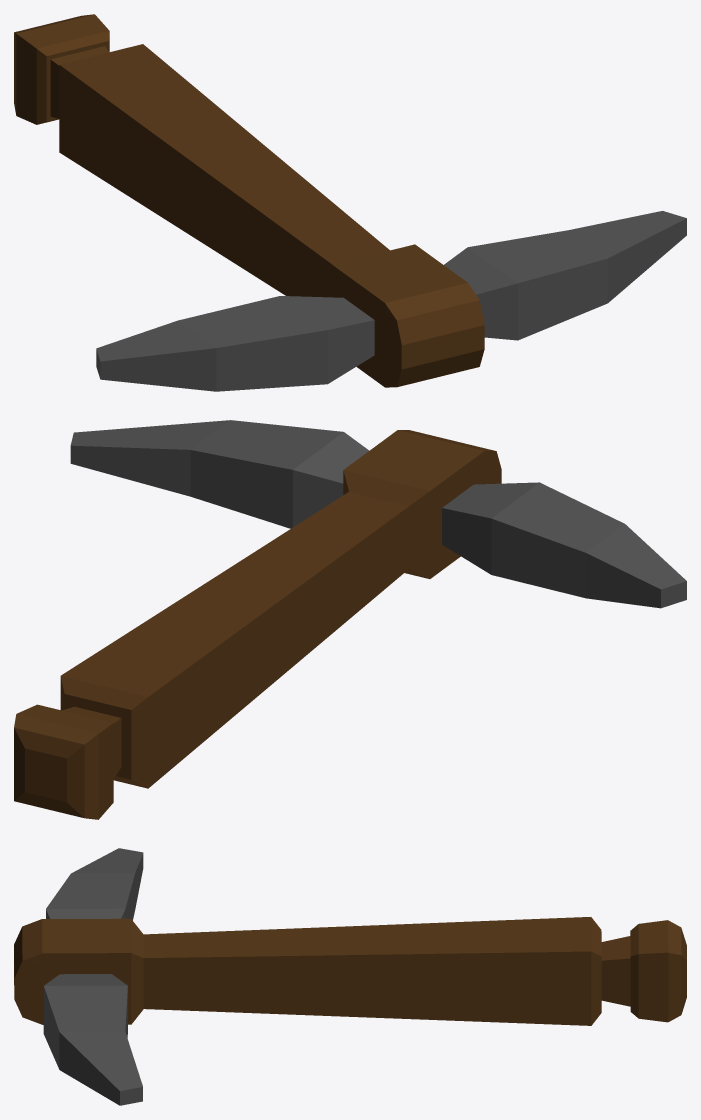
Rendered from F_Pickaxe.fbx.
The picture shows the model from 3 angles, top to bottom: view 1: azimuth 30°, elevation 25°; view 2: azimuth 150°, elevation 25°; view 3: azimuth 270°, elevation 25°; orthographic projection. The views are drawn at different scales.
Visible parts, largest first — view 1: F_Pickaxe; view 2: F_Pickaxe; view 3: F_Pickaxe.
Part boxes in pixels (bbox=[...]): F_Pickaxe: bbox=[14, 14, 686, 391]; F_Pickaxe: bbox=[14, 420, 686, 819]; F_Pickaxe: bbox=[14, 848, 686, 1105].
Bounding box in the file's own units: 77.36 × 11.06 × 90.65.
